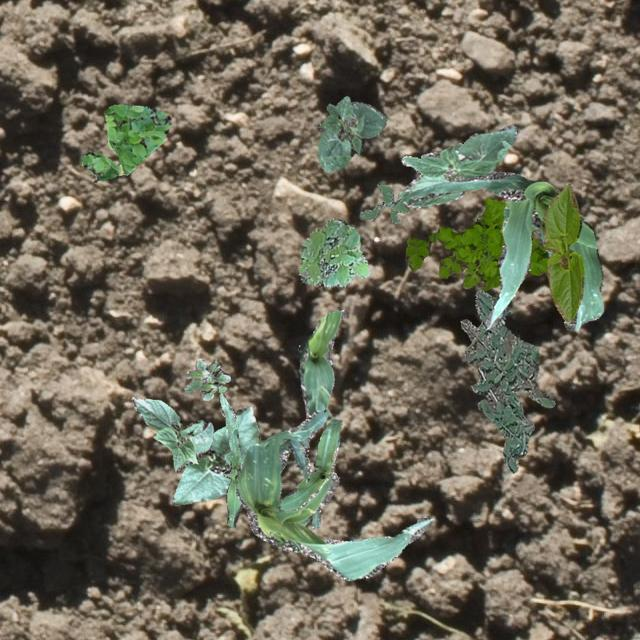crop: (235, 408, 432, 580), (398, 170, 604, 330), (396, 124, 516, 206), (170, 406, 260, 504), (278, 418, 340, 528), (130, 396, 212, 472), (540, 182, 582, 320), (316, 94, 386, 170), (298, 308, 346, 416), (218, 390, 240, 526)
weed: (460, 288, 554, 472), (404, 196, 548, 288), (80, 104, 170, 182), (297, 218, 368, 286), (183, 358, 230, 400), (358, 182, 407, 222)
